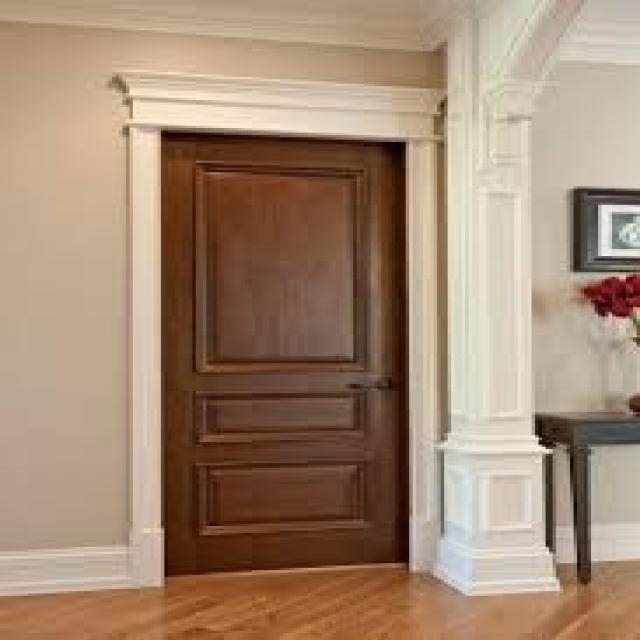Door: (147, 132, 420, 570)
